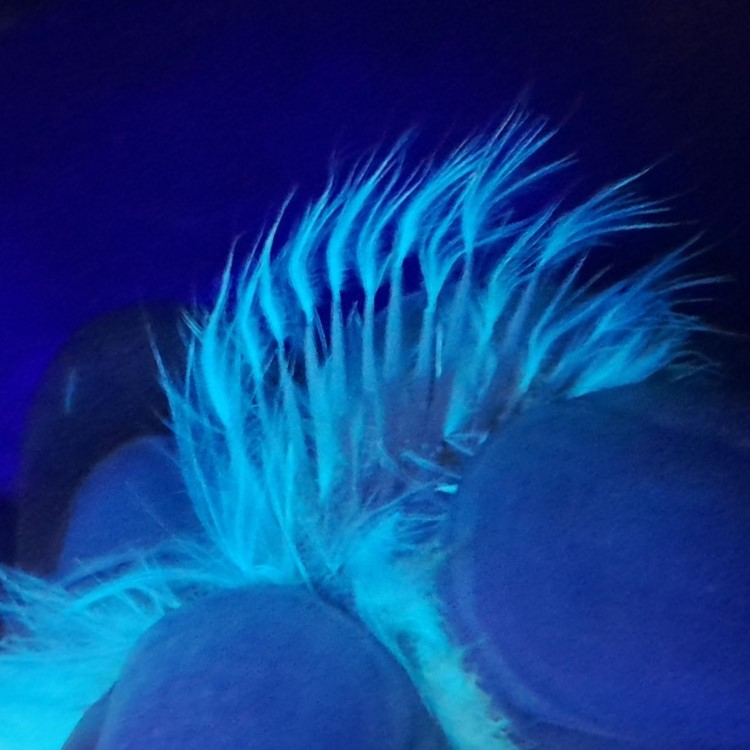male: (232, 237, 599, 529)
